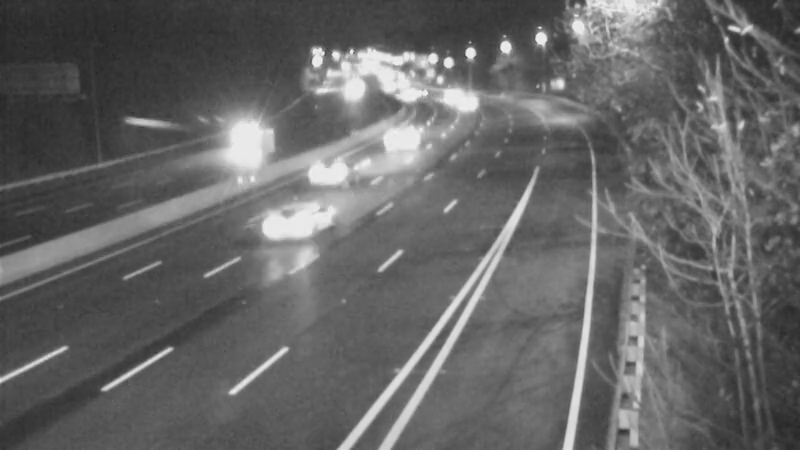vehicle: (288, 136, 368, 216), (254, 180, 334, 260), (381, 69, 431, 119), (422, 68, 472, 118), (437, 78, 487, 128), (385, 117, 435, 167), (225, 116, 275, 166), (331, 70, 381, 120)
